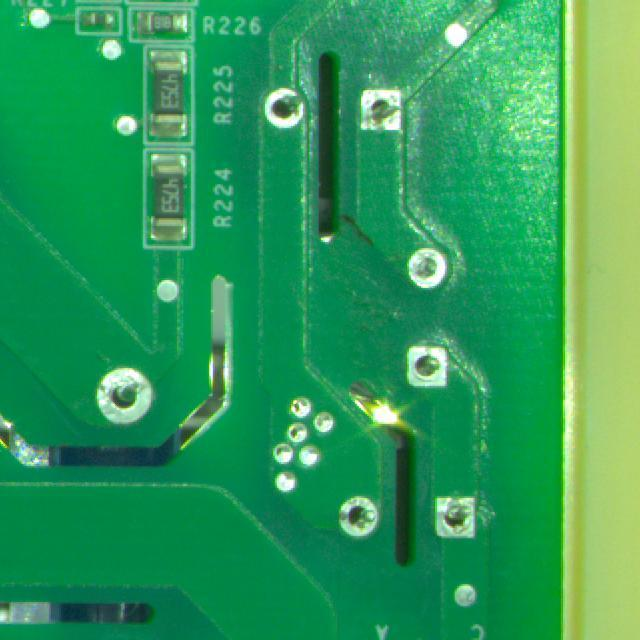Insufficient solder: (86, 362, 156, 435), (347, 76, 418, 140), (395, 233, 459, 302), (255, 78, 319, 140), (328, 493, 391, 552), (401, 344, 463, 399), (417, 492, 481, 545)
